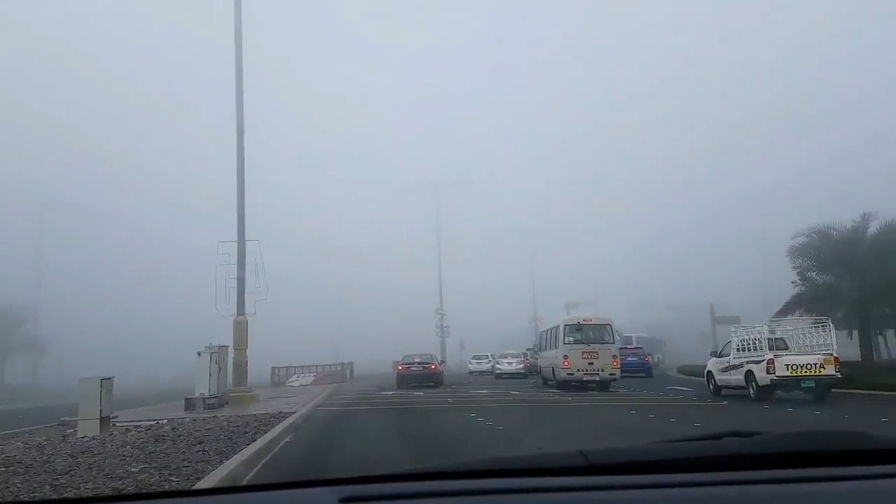bus: (700, 315, 843, 401), (533, 315, 621, 392), (611, 332, 669, 373)
car: (394, 352, 445, 390), (609, 342, 654, 378), (492, 350, 530, 379), (509, 349, 540, 374), (466, 352, 498, 376)
